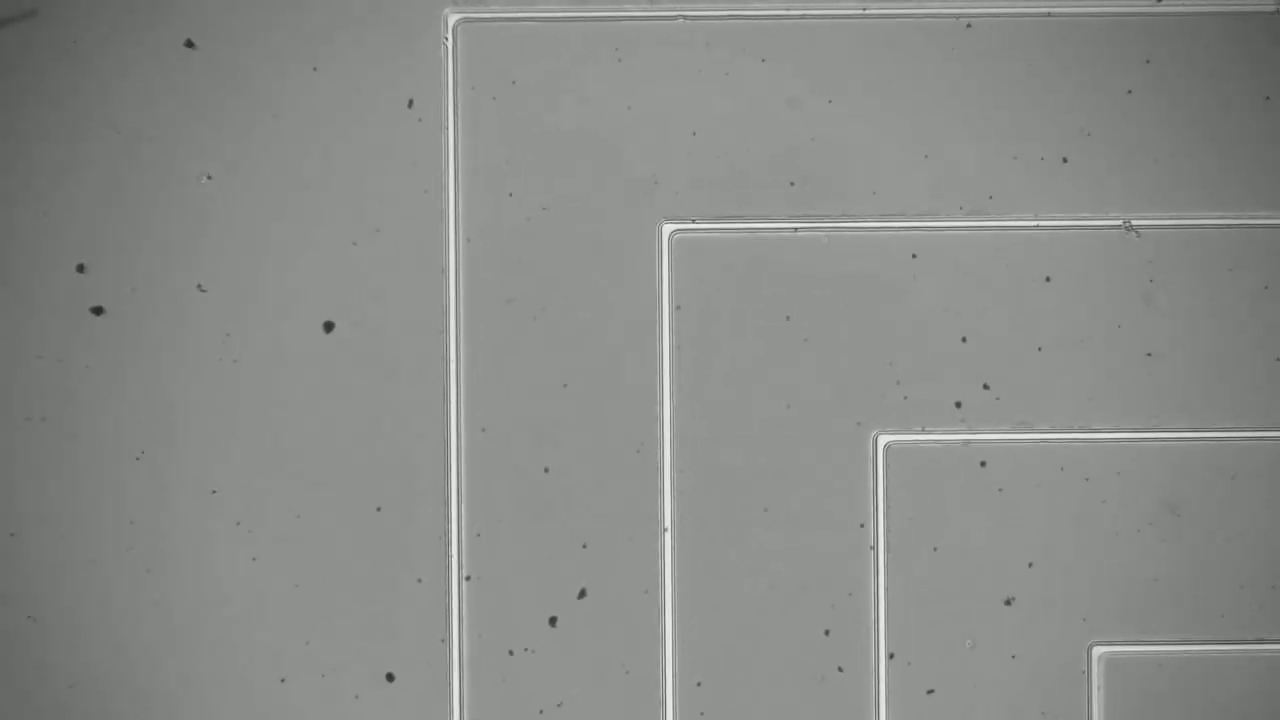stains_enbedded: (1110, 209, 1149, 247)
